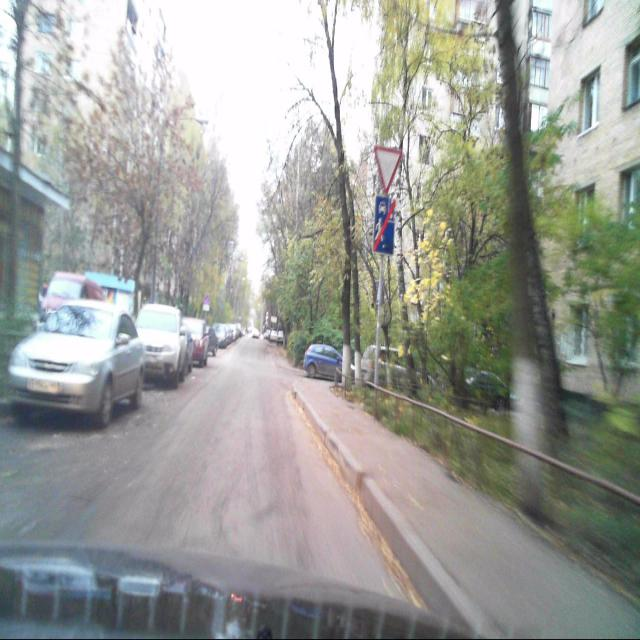road sign: (374, 144, 402, 196), (372, 196, 394, 254)
